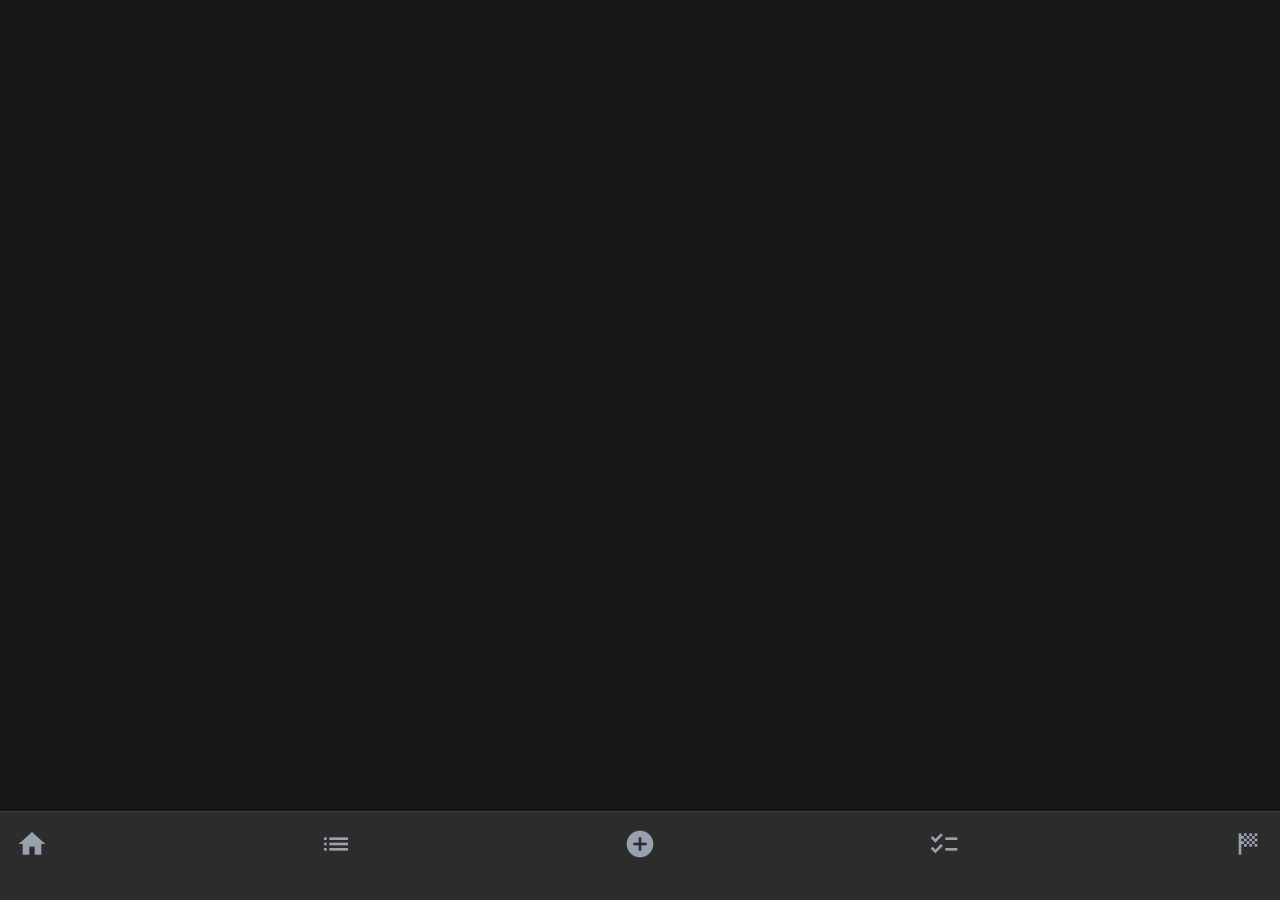
Test: BottomNavMenuComponent › should open add choice modal when plus is clicked
Click the button named "Add log or task" at (640, 844), box [624,828,656,860]
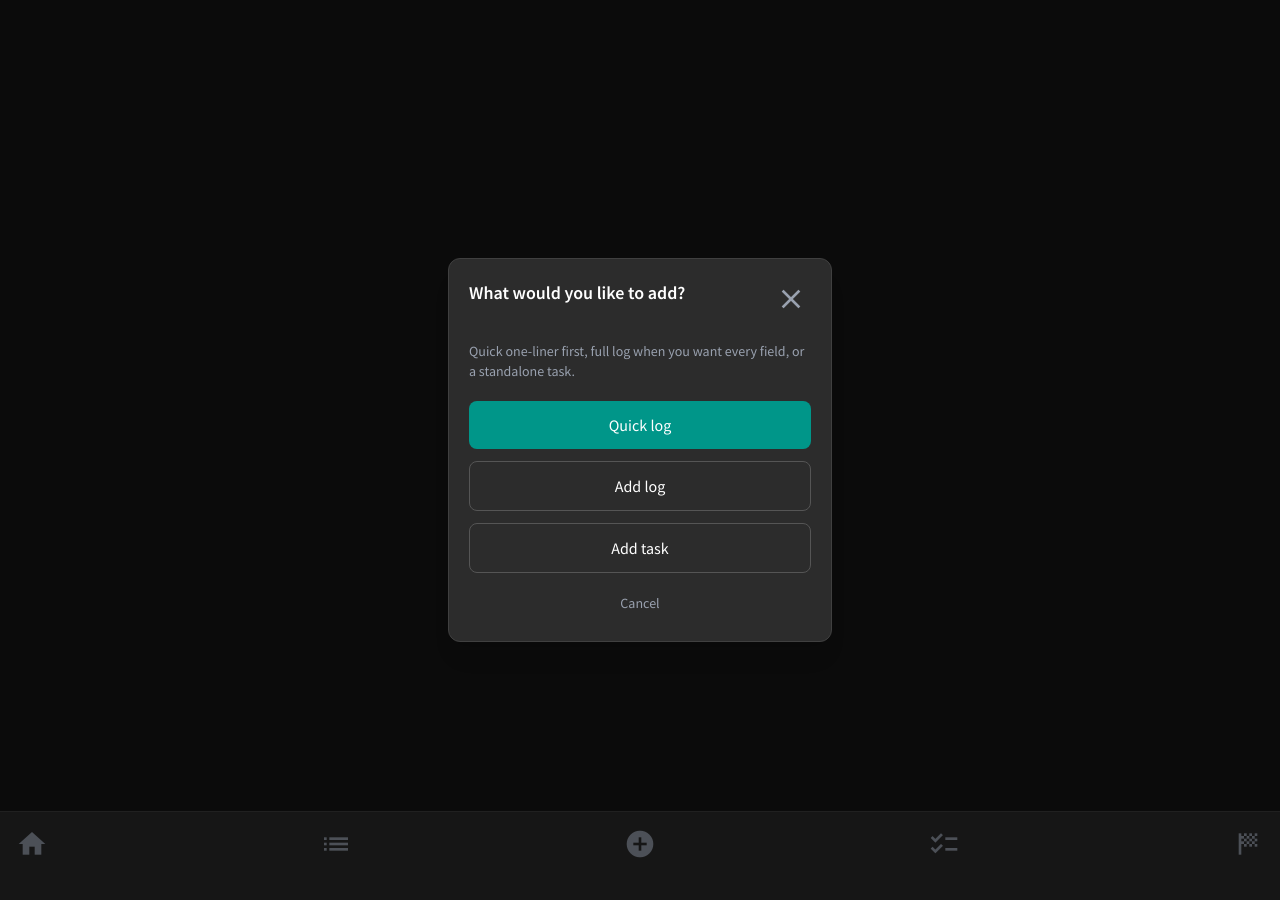
Expected: the dialog is shown, [448,258,832,642]
